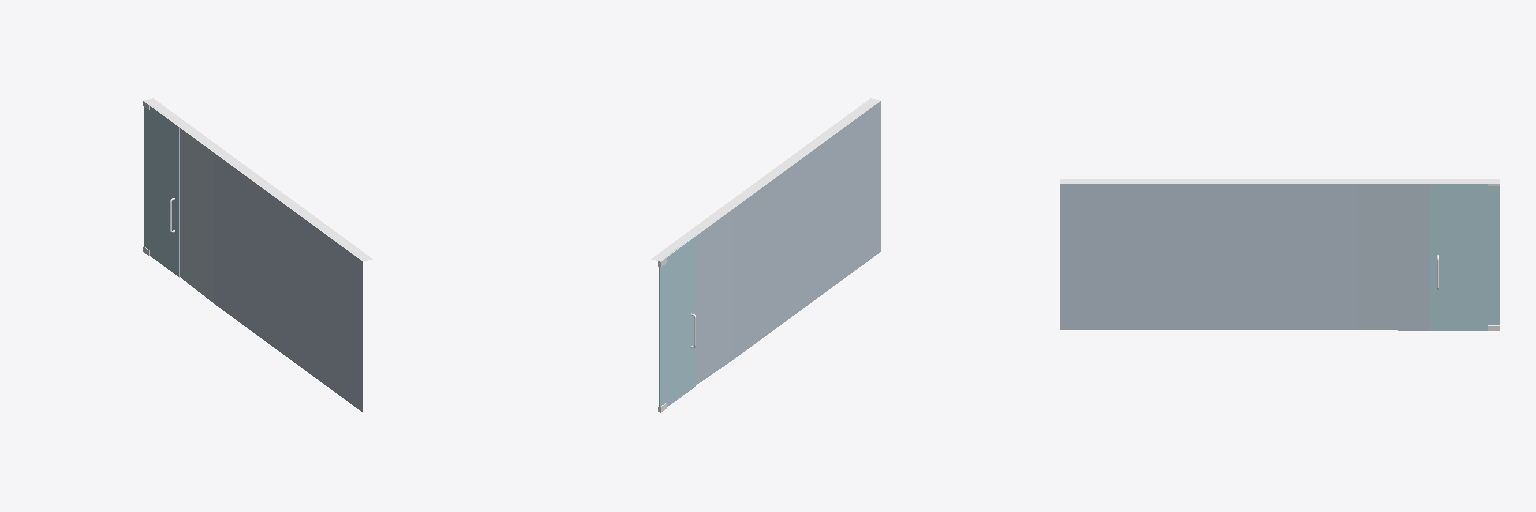
File: glasswall.obj
The picture shows the model from 3 angles: view 1: azimuth 30°, elevation 25°; view 2: azimuth 150°, elevation 25°; view 3: azimuth 270°, elevation 25°; orthographic projection.
Parts seen in each view (by area): view 1: SketchUp_ID61, group_3_ID23, SketchUp_ID55; view 2: SketchUp_ID61, group_3_ID23, SketchUp_ID55; view 3: SketchUp_ID61, group_3_ID23, SketchUp_ID55.
Boxes of the visible parts, box(x1,y1,x2,y2) form: SketchUp_ID61: box(180, 128, 362, 411); group_3_ID23: box(144, 106, 179, 277); SketchUp_ID55: box(144, 98, 372, 261); SketchUp_ID61: box(696, 101, 880, 384); group_3_ID23: box(659, 235, 695, 406); SketchUp_ID55: box(651, 98, 879, 261); SketchUp_ID61: box(1060, 184, 1428, 330); group_3_ID23: box(1429, 184, 1499, 330); SketchUp_ID55: box(1060, 179, 1499, 183).
Size of the model in its own units: 0.2159 by 2.13 by 5.64.